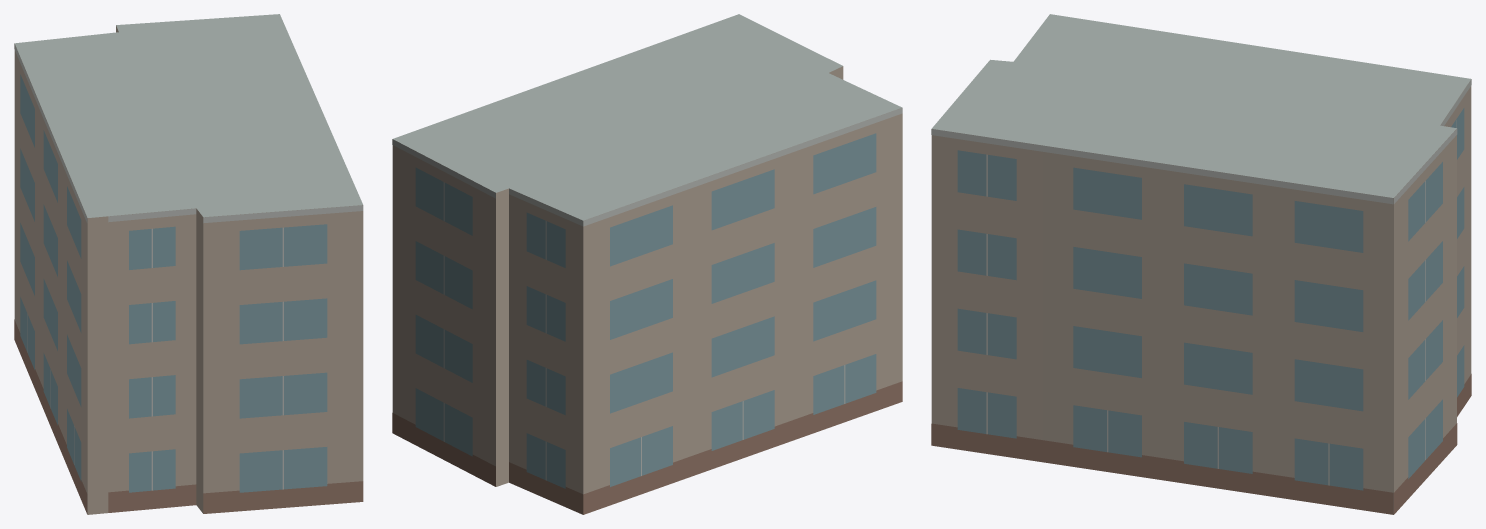
File: survey-upis-32629571.glb
3 renders of one model, left to right at view 1: azimuth 30°, elevation 25°; view 2: azimuth 150°, elevation 25°; view 3: azimuth 270°, elevation 25°, orthographic. The views are drawn at different scales.
Visible parts, largest first — view 1: survey-upis-32629571.tmp; view 2: survey-upis-32629571.tmp; view 3: survey-upis-32629571.tmp.
Boxes of the visible parts, box(x1,y1,x2,y2) form: survey-upis-32629571.tmp: box(14, 14, 363, 514); survey-upis-32629571.tmp: box(392, 14, 902, 514); survey-upis-32629571.tmp: box(931, 14, 1471, 514).
Bounding box in the file's own units: 15.21 × 12.2 × 18.86.
